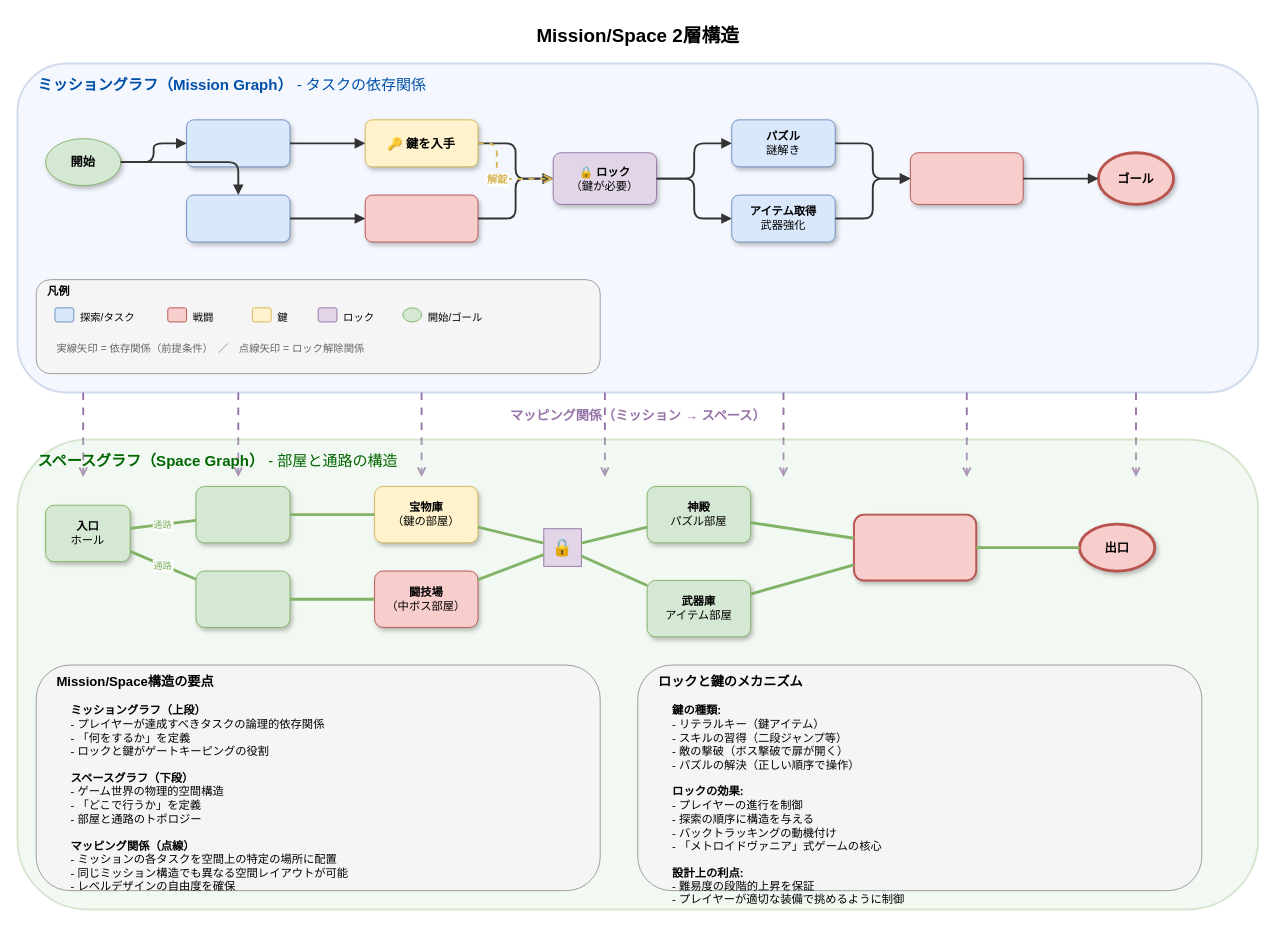
Some shapes in this 1275 by 926 pixel diagram are drawn without their labels. The shapes that lost their labels are listed below. From the top down, each one's centre as x and y in pixels, then its label:
At point (239, 144): "探索A 森を調査".
At point (967, 179): "ボス戦".
At point (239, 219): "探索B 洞窟を調査".
At point (422, 219): "中ボス戦".
At point (243, 515): "森 広い空間".
At point (915, 548): "ボスの間 大広間".
At point (243, 600): "洞窟 狭い通路".
